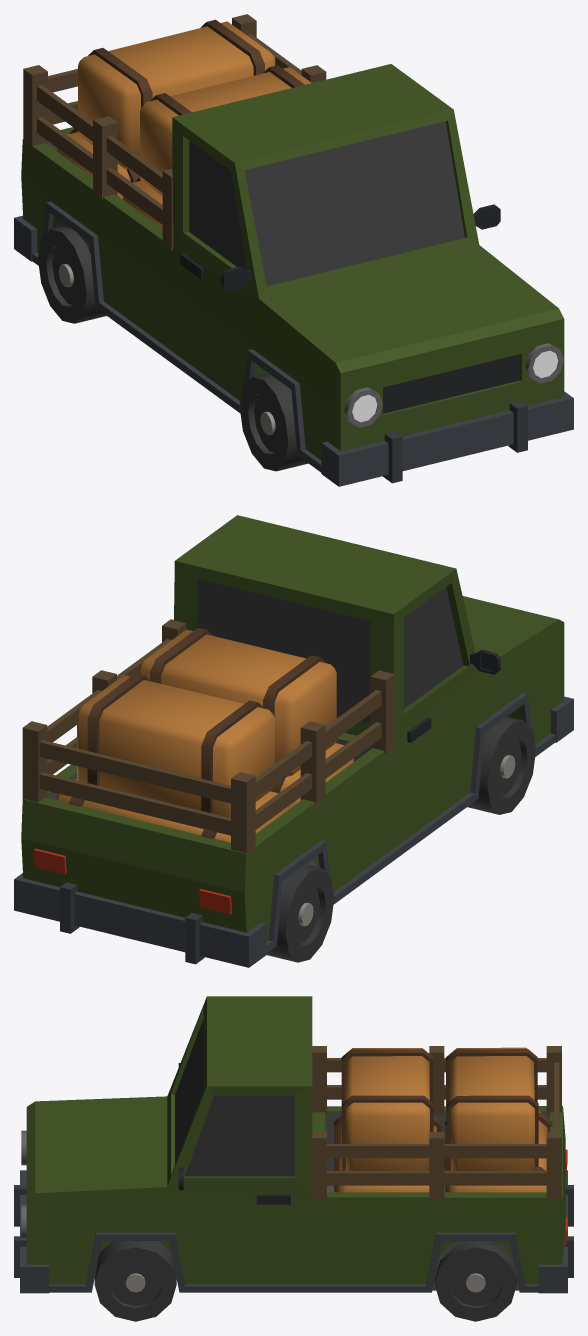
Rendered from FarmJeep_2.fbx.
3 renders of one model, top to bottom at view 1: azimuth 30°, elevation 25°; view 2: azimuth 150°, elevation 25°; view 3: azimuth 270°, elevation 25°, orthographic. The views are drawn at different scales.
Visible parts, largest first — view 1: FarmJeep_2, BackWheels_1, FrontWheels_1; view 2: FarmJeep_2, BackWheels_1, FrontWheels_1; view 3: FarmJeep_2, FrontWheels_1, BackWheels_1.
Part boxes in pixels (x1,y1,x2,y2): FarmJeep_2: [14, 14, 573, 486]; BackWheels_1: [38, 226, 106, 323]; FrontWheels_1: [239, 373, 308, 471]; FarmJeep_2: [14, 515, 573, 967]; BackWheels_1: [266, 865, 334, 962]; FrontWheels_1: [467, 716, 535, 814]; FarmJeep_2: [14, 996, 573, 1293]; FrontWheels_1: [94, 1241, 176, 1321]; BackWheels_1: [434, 1242, 516, 1321].
Bounding box in the file's own units: 176 × 165 × 365.
